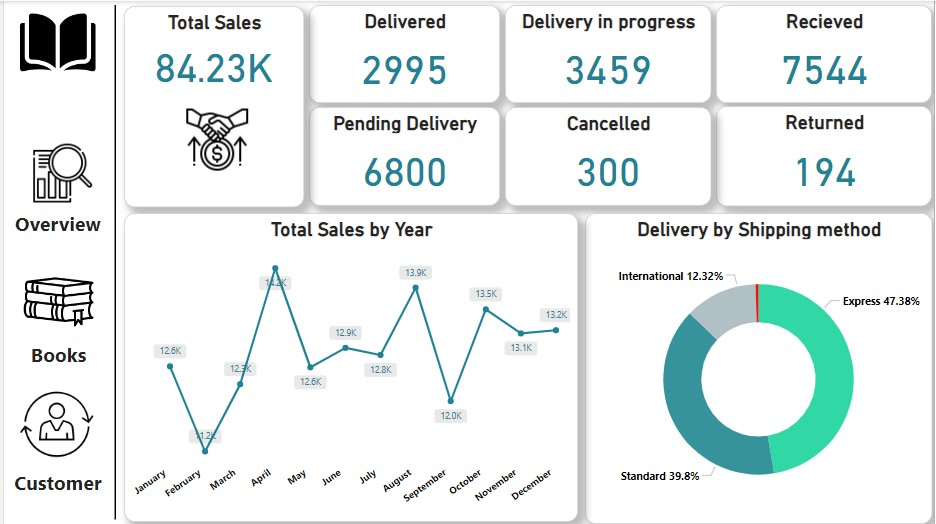

The page's visual inventory and layout, read from the dashboard file:
{"tool":"powerbi","page":{"name":"overview","canvas":[1280,720],"ordinal":0},"visuals":[{"type":"card","title":"Delivered","fields":{"Values":["CountNonNull(Order_History_Fact.fk_date_deliverd)"]},"box":[420,5.5,263,135],"z":0},{"type":"card","title":"Delivery in progress","fields":{"Values":["CountNonNull(Order_History_Fact.fk_date_delivery_in_progress)"]},"box":[689,5.5,283.5,135],"z":1000},{"type":"card","title":"Recieved","fields":{"Values":["CountNonNull(Order_History_Fact.fk_date_order_recieve)"]},"box":[980,5.5,297.3,135],"z":2000},{"type":"card","title":"Pending Delivery","fields":{"Values":["CountNonNull(Order_History_Fact.fk_date_pending_deliver)"]},"box":[420,145.9,263,136.3],"z":3000},{"type":"card","title":"Returned","fields":{"Values":["CountNonNull(Order_History_Fact.fk_date_returned)"]},"box":[980,144.5,297.3,137.6],"z":4000},{"type":"card","title":"Cancelled","fields":{"Values":["CountNonNull(Order_History_Fact.fk_date_cancelled)"]},"box":[689,145.9,283.5,136.3],"z":5000},{"type":"cardVisual","title":"Total Sales","fields":{"Data":["Sum(Order_History_Fact.cost)"]},"box":[165.2,6.9,247.7,276.6],"z":6000},{"type":"donutChart","title":"Delivery by Shipping method","fields":{"Category":["Shipping_Method_Dim.shipping_method_name"],"Y":["Sum(Order_History_Fact.fk_date_deliverd)"]},"box":[799.7,291.8,477.6,428],"z":7000},{"type":"image","box":[0,0,148.6,114.2],"z":8000},{"type":"shape","box":[136.5,5.4,33.8,708.1],"z":9000},{"type":"image","box":[30.3,191.3,100.5,90.8],"z":10000},{"type":"image","box":[15.1,346.8,119.7,106],"z":11000},{"type":"textbox","box":[0,282.4,148.6,47.3],"z":12000},{"type":"textbox","box":[15.1,462.5,119.7,52.3],"z":13000},{"type":"textbox","box":[0,638.6,148.6,49.5],"z":14000},{"type":"image","box":[239.5,141.8,108.7,97.7],"z":15000},{"type":"image","box":[15.1,527.1,115.6,111.5],"z":16000},{"type":"lineChart","title":"Total Sales by Year","fields":{"Category":["Sales_Fact.order_date.Variation.Date Hierarchy.Month"],"Y":["Sum(Sales_Fact.price)"]},"box":[165.2,291.8,624.9,425.3],"z":17000}]}

Visuals, with their boxes in screenshot pixels (x1, y1, x2, y2), scaled from the page's 1280x720 canvas onto the 936x524 screenshot:
"Delivered" card: bbox=(307, 4, 499, 102)
"Delivery in progress" card: bbox=(504, 4, 711, 102)
"Recieved" card: bbox=(717, 4, 934, 102)
"Pending Delivery" card: bbox=(307, 106, 499, 205)
"Returned" card: bbox=(717, 105, 934, 205)
"Cancelled" card: bbox=(504, 106, 711, 205)
"Total Sales" cardVisual: bbox=(121, 5, 302, 206)
"Delivery by Shipping method" donutChart: bbox=(585, 212, 934, 523)
image: bbox=(0, 0, 109, 83)
shape: bbox=(100, 4, 125, 519)
image: bbox=(22, 139, 96, 205)
image: bbox=(11, 252, 99, 330)
textbox: bbox=(0, 206, 109, 240)
textbox: bbox=(11, 337, 99, 375)
textbox: bbox=(0, 465, 109, 501)
image: bbox=(175, 103, 255, 174)
image: bbox=(11, 384, 96, 465)
"Total Sales by Year" lineChart: bbox=(121, 212, 578, 522)
